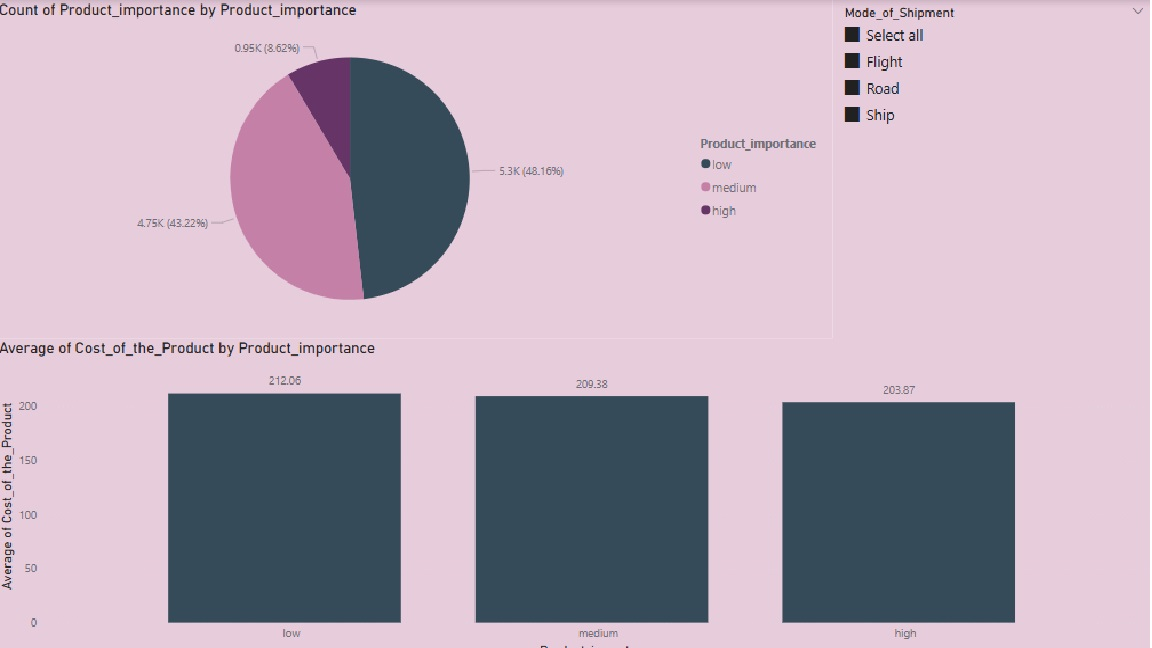

Layout of this report page (visuals, bound fields, positions):
{"tool":"powerbi","page":{"name":"Product Importance","canvas":[1280,720],"ordinal":0},"visuals":[{"type":"pieChart","fields":{"Category":["Train.Product_importance"],"Y":["CountNonNull(Train.Product_importance)"]},"box":[0,0,924.1,368.5],"z":0},{"type":"clusteredColumnChart","fields":{"Category":["Train.Product_importance"],"Y":["Avg(Train.Cost_of_the_Product)"]},"box":[0,368.5,1279.4,351.5],"z":1000},{"type":"slicer","fields":{"Values":["Train.Mode_of_Shipment"]},"box":[924,0,355,369],"z":2000}]}

Visuals, with their boxes in screenshot pixels (x1, y1, x2, y2), scaled from the page's 1280x720 canvas onto the 1152x648 screenshot:
pieChart - Train.Product_importance x CountNonNull(Train.Product_importance): 0/0/832/332
clusteredColumnChart - Train.Product_importance x Avg(Train.Cost_of_the_Product): 0/332/1151/647
slicer - Train.Mode_of_Shipment: 832/0/1151/332
